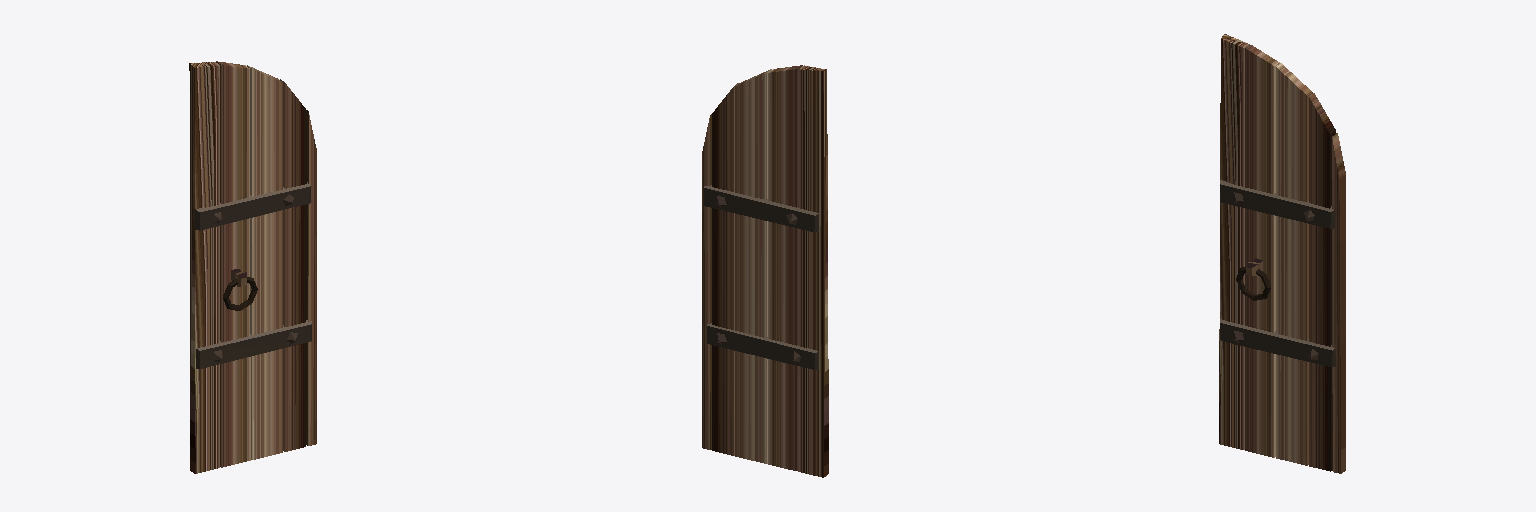
3 views of the same model, side by side, from view 1: azimuth 30°, elevation 25°; view 2: azimuth 150°, elevation 25°; view 3: azimuth 330°, elevation 25° (orthographic).
Parts seen in each view (by area): view 1: Castle-gate-door-right_Mesh; view 2: Castle-gate-door-right_Mesh; view 3: Castle-gate-door-right_Mesh.
Part boxes in pixels (left/top/right/bottom): Castle-gate-door-right_Mesh: left=189, top=61, right=316, bottom=473; Castle-gate-door-right_Mesh: left=702, top=65, right=828, bottom=477; Castle-gate-door-right_Mesh: left=1219, top=34, right=1345, bottom=473.
Size of the model in its own units: 1.1 by 3.5 by 0.3051.
1 materials, 1 textured.